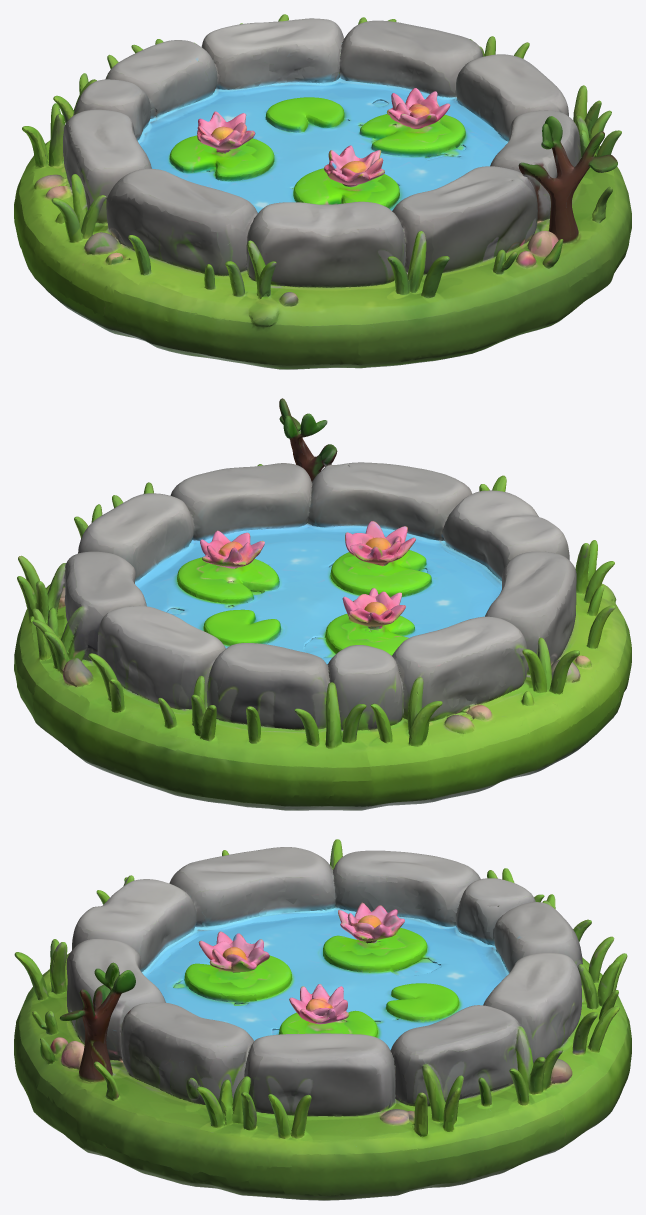
File: ter_pond.glb
3 views of the same model, one above another, from view 1: azimuth 30°, elevation 25°; view 2: azimuth 150°, elevation 25°; view 3: azimuth 270°, elevation 25° (orthographic).
Visible parts, largest first — view 1: geometry_0; view 2: geometry_0; view 3: geometry_0.
Boxes of the visible parts, left/top/right/bottom form: geometry_0: left=14, top=14, right=631, bottom=369; geometry_0: left=14, top=398, right=631, bottom=810; geometry_0: left=14, top=839, right=631, bottom=1200.
Bounding box in the file's own units: 0.15 × 0.0459 × 0.15.
1 material, 1 textured.
